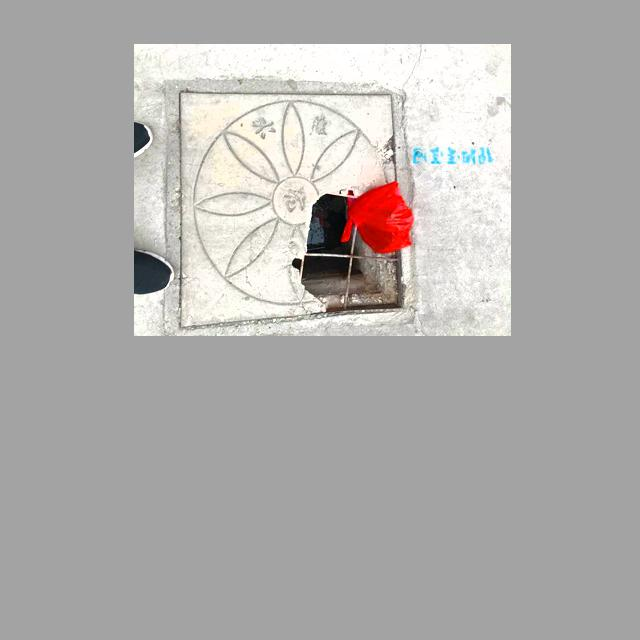broke: (160, 70, 439, 336)
